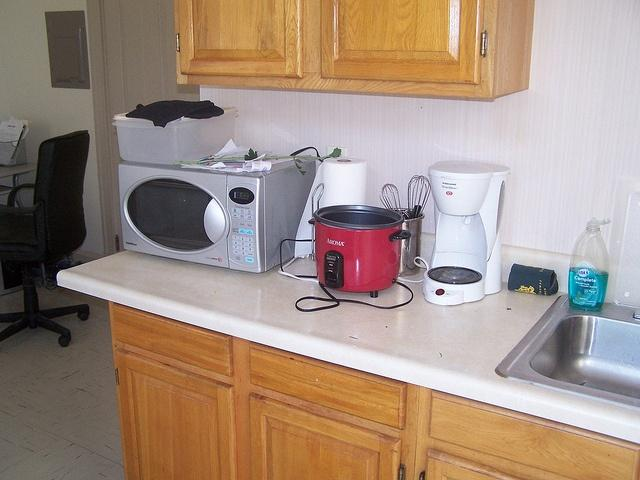Kursi: (0, 129, 90, 347)
Lemari: (171, 0, 537, 99)
